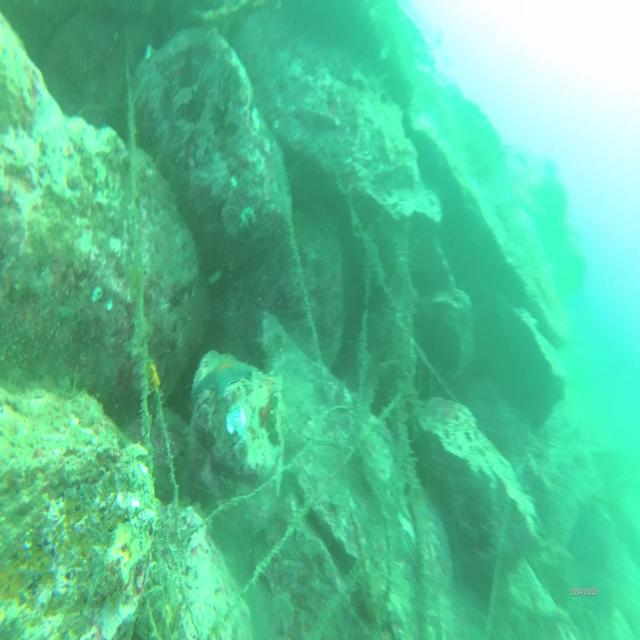starfish: (100, 523, 155, 581), (194, 350, 255, 402)
